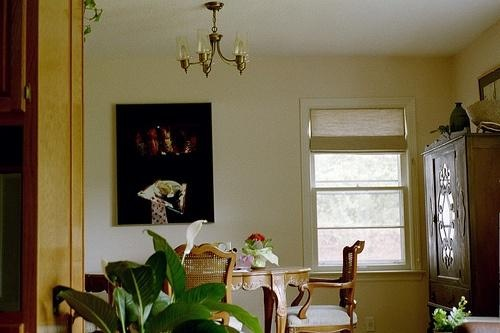chair: (284, 239, 367, 333), (173, 243, 238, 333)
diningtable: (83, 266, 311, 333)
pottedplant: (58, 220, 266, 333), (239, 232, 281, 270), (433, 295, 471, 333), (82, 1, 104, 41)
